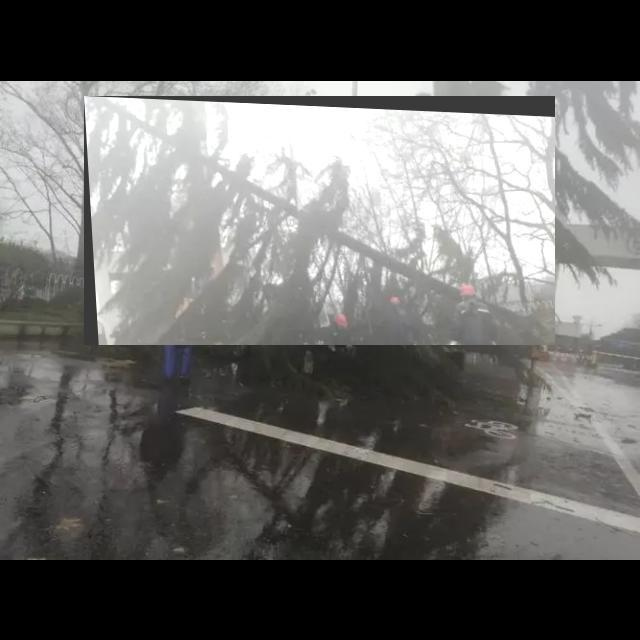fallen_tree: (84, 96, 556, 346)
